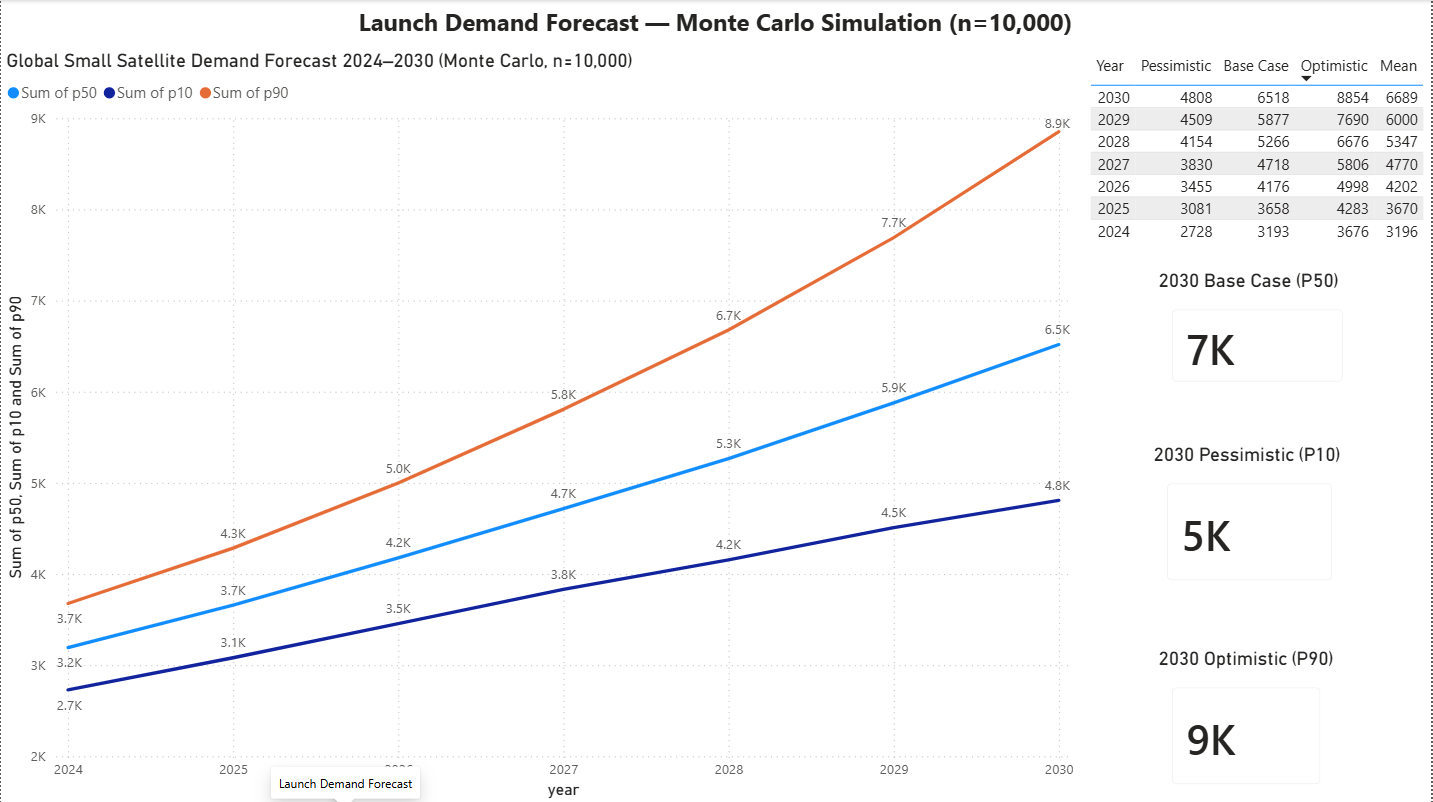

Layout of this report page (visuals, bound fields, positions):
{"tool":"powerbi","page":{"name":"Launch Demand Forecast","canvas":[1280,720],"ordinal":2},"visuals":[{"type":"lineChart","title":"Global Small Satellite Demand Forecast 2024–2030 (Monte Carlo, n=10,000)","fields":{"Category":["demand_forecast.year"],"Y":["Sum(demand_forecast.p50)","Sum(demand_forecast.p10)","Sum(demand_forecast.p90)"]},"box":[0,43.5,965.3,676.7],"z":0},{"type":"tableEx","fields":{"Values":["demand_forecast.year","Sum(demand_forecast.p10)","Sum(demand_forecast.p50)","Sum(demand_forecast.p90)","Sum(demand_forecast.mean)"]},"box":[970.3,43.5,309.7,190.3],"z":1000},{"type":"cardVisual","title":"2030 Base Case (P50)","fields":{"Data":["Sum(demand_forecast.p50)"]},"box":[1031.2,241.3,187.8,118.2],"z":2000},{"type":"cardVisual","title":"2030 Pessimistic (P10)","fields":{"Data":["Sum(demand_forecast.p10)"]},"box":[1027.5,396.8,182.9,140.6],"z":3000},{"type":"cardVisual","title":"2030 Optimistic (P90)","fields":{"Data":["Sum(demand_forecast.p90)"]},"box":[1031.2,579.7,167.9,140.6],"z":4000},{"type":"textbox","box":[161.7,0,955.4,43.5],"z":5000}]}

Visuals, with their boxes in screenshot pixels (x1, y1, x2, y2), scaled from the page's 1280x720 canvas onto the 1433x802 screenshot:
"Global Small Satellite Demand Forecast 2024–2030 (Monte Carlo, n=10,000)" lineChart: Rect(0, 48, 1081, 801)
tableEx - demand_forecast.year x Sum(demand_forecast.p10): Rect(1086, 48, 1432, 260)
"2030 Base Case (P50)" cardVisual: Rect(1154, 269, 1365, 400)
"2030 Pessimistic (P10)" cardVisual: Rect(1150, 442, 1355, 599)
"2030 Optimistic (P90)" cardVisual: Rect(1154, 646, 1342, 801)
textbox: Rect(181, 0, 1251, 48)
